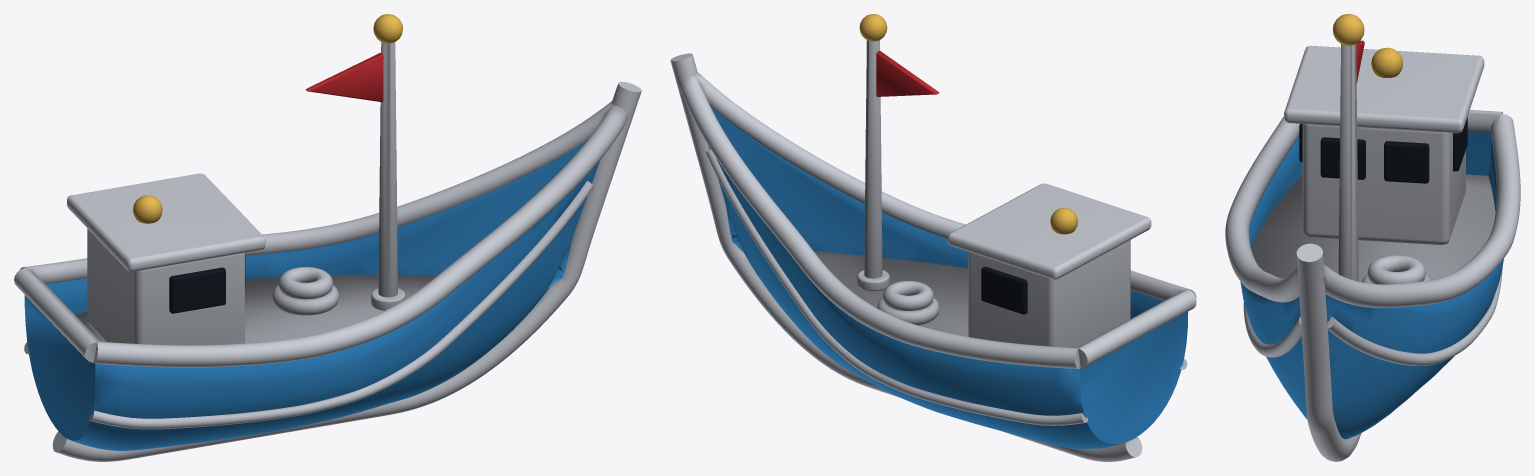
File: piece-9.glb
3 views of the same model, side by side, from view 1: azimuth 30°, elevation 25°; view 2: azimuth 150°, elevation 25°; view 3: azimuth 270°, elevation 25° (orthographic). The views are drawn at different scales.
Visible parts, largest first — view 1: Hull; view 2: Hull; view 3: Hull.
Boxes of the visible parts, x1,y1,x2,y2 form: Hull: (14,14,641,461); Hull: (670,14,1196,461); Hull: (1225,14,1520,461).
Size of the model in its own units: 2.59 by 1.76 by 1.11.
